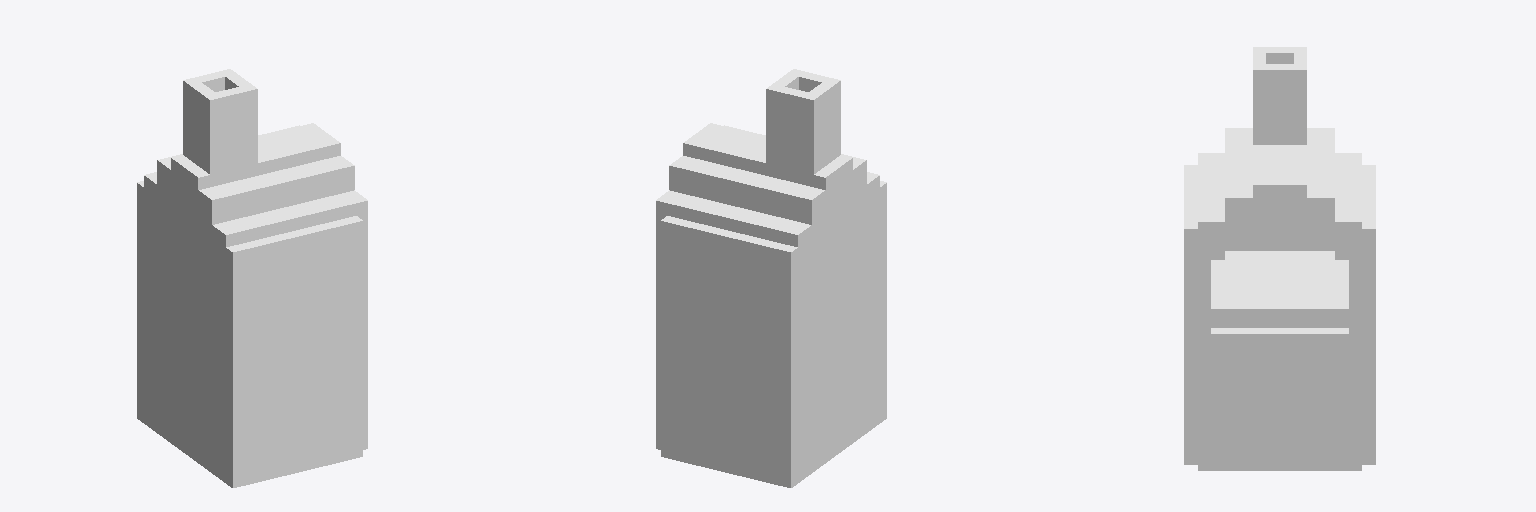
The model's file is furnace.obj.
The picture shows the model from 3 angles: view 1: azimuth 30°, elevation 25°; view 2: azimuth 150°, elevation 25°; view 3: azimuth 270°, elevation 25°; orthographic projection.
Visible parts, largest first — view 1: object 1; view 2: object 1; view 3: object 1.
Part boxes in pixels (left/top/right/bottom): object 1: left=137, top=69, right=367, bottom=487; object 1: left=656, top=69, right=886, bottom=487; object 1: left=1184, top=47, right=1375, bottom=470.
Size of the model in its own units: 1.2 by 2.9 by 1.4.